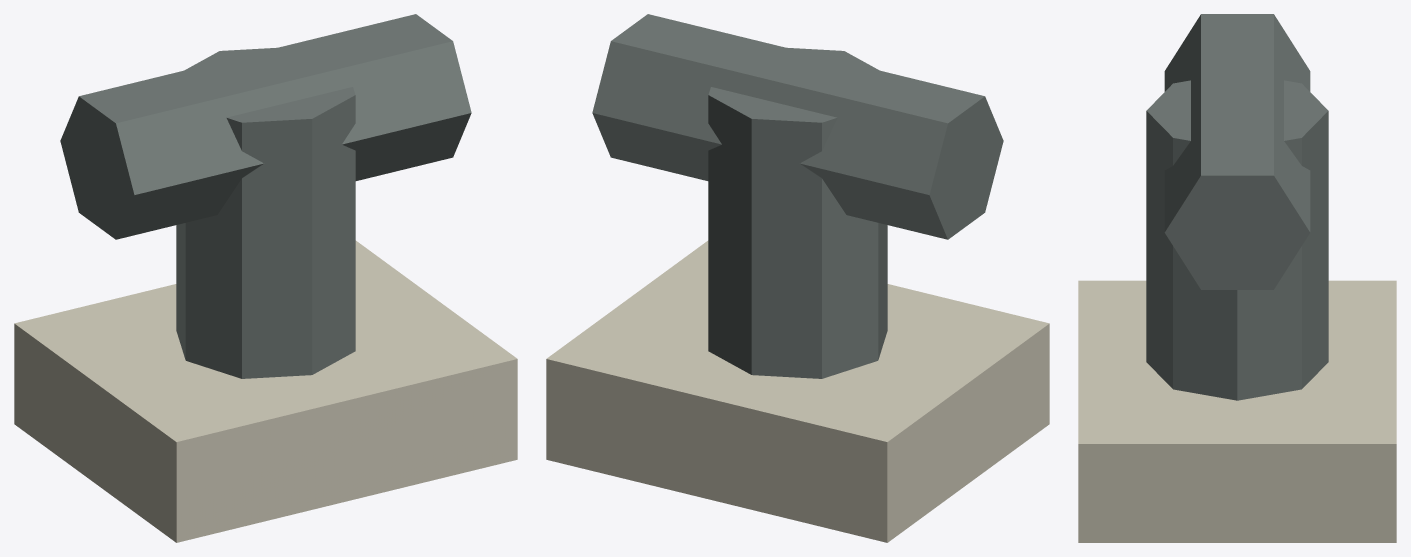
3 renders of one model, left to right at view 1: azimuth 30°, elevation 25°; view 2: azimuth 150°, elevation 25°; view 3: azimuth 270°, elevation 25°, orthographic.
Size of the model in its own units: 0.85 by 0.8886 by 0.7.
